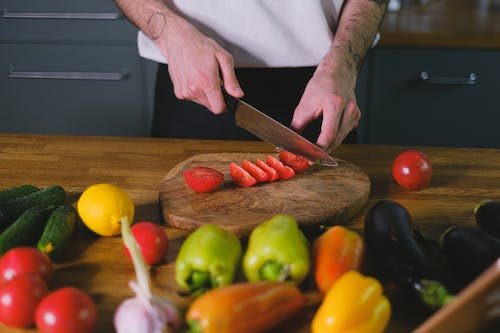knife: (220, 84, 340, 167)
